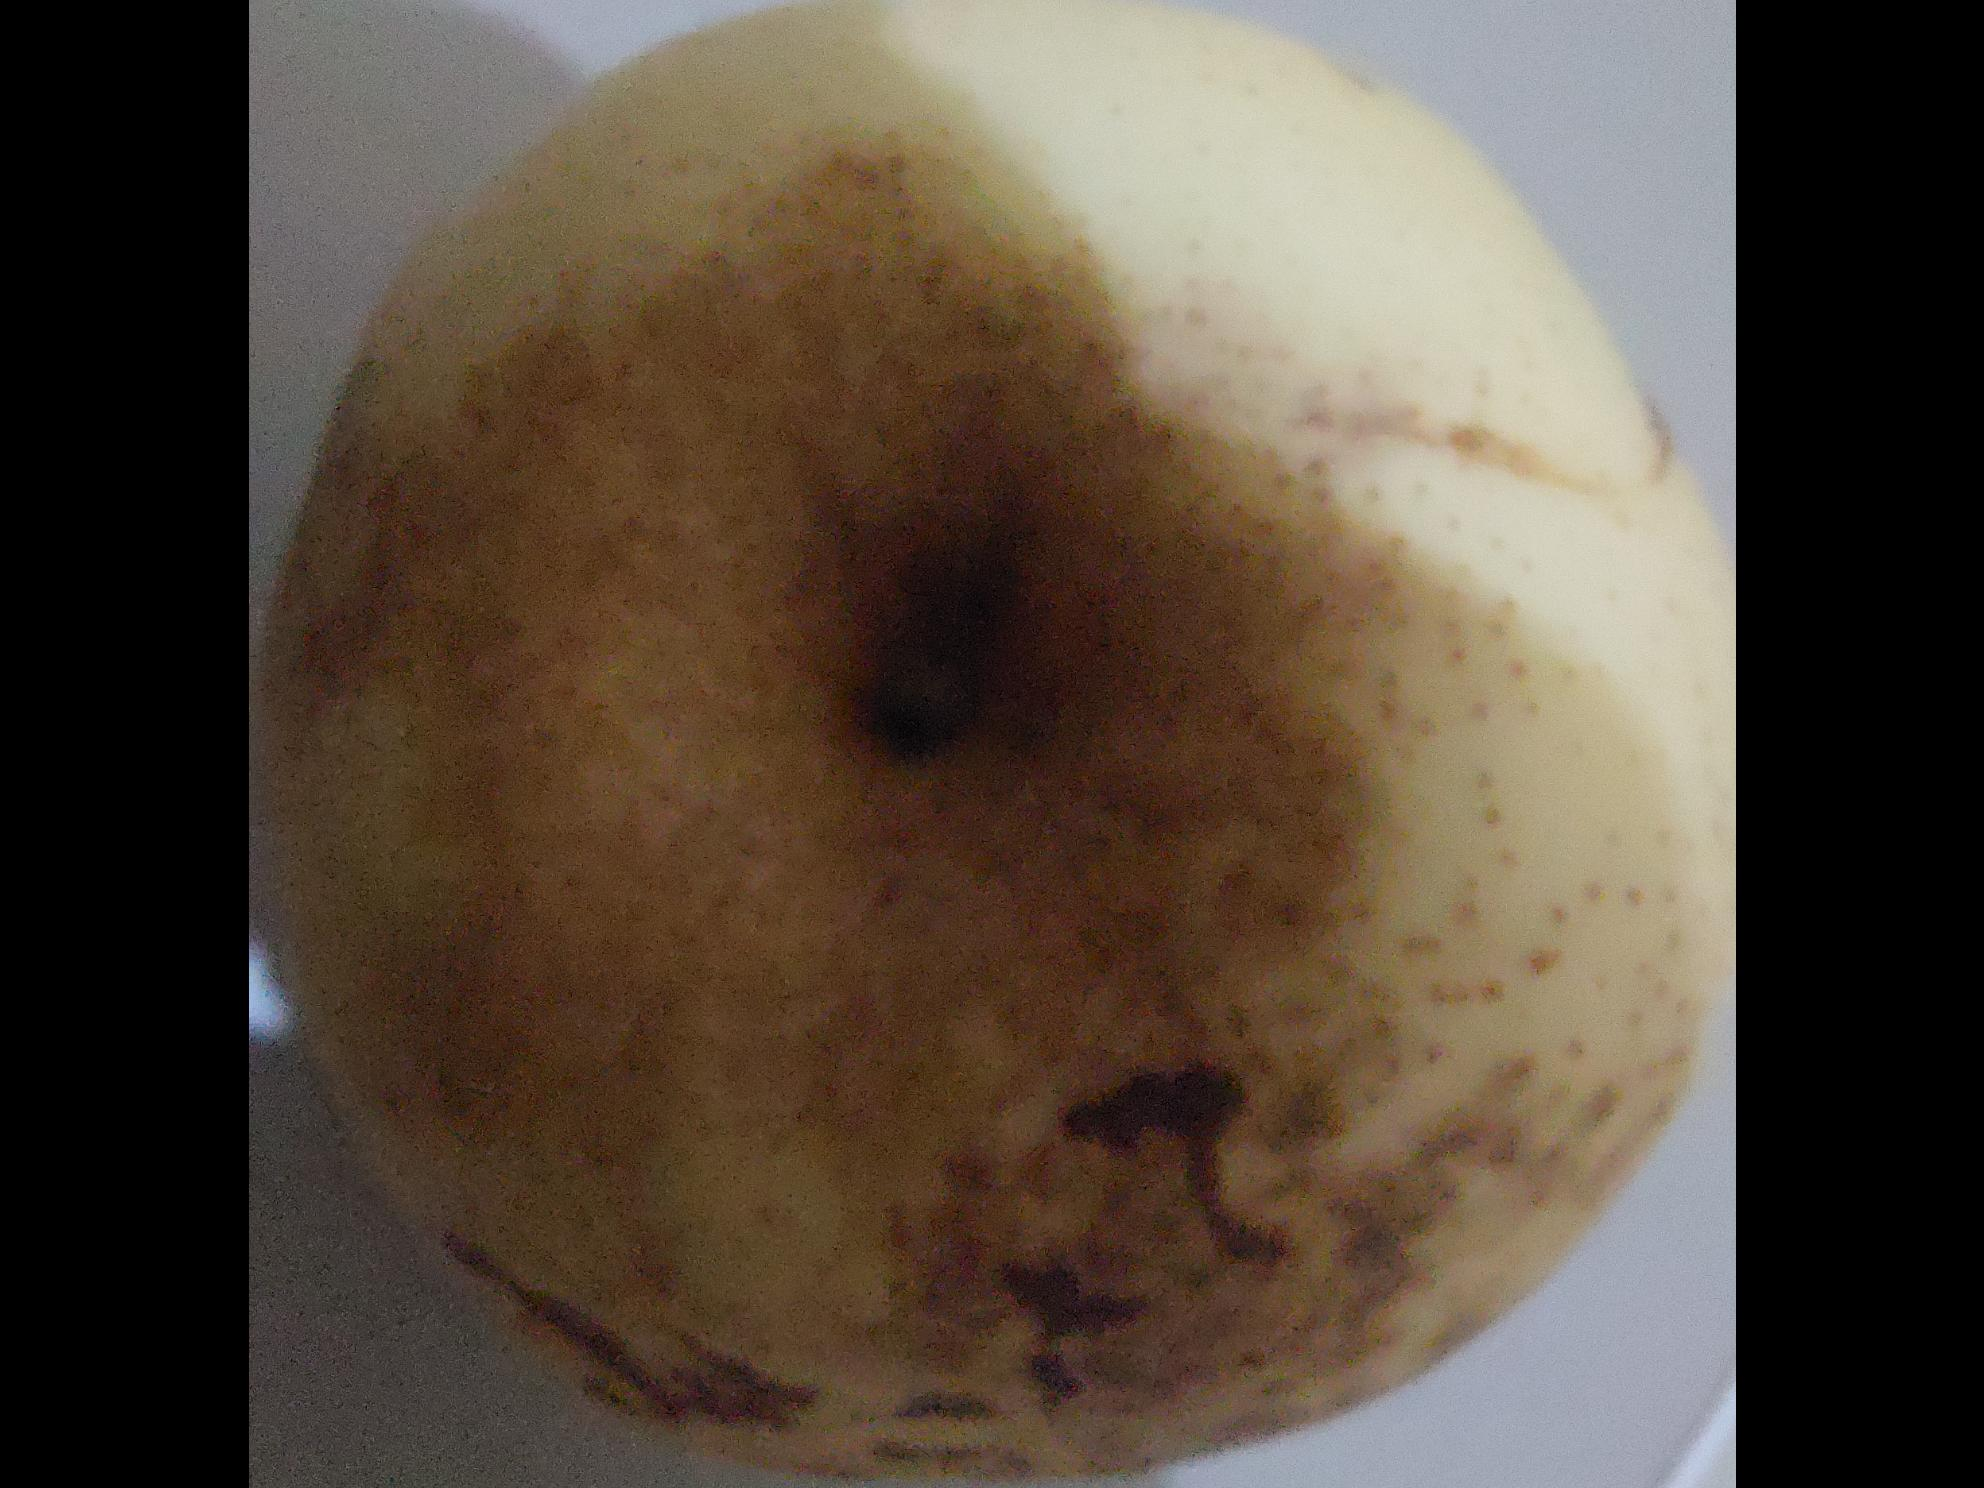Bad Pear: (262, 0, 1736, 1488)
